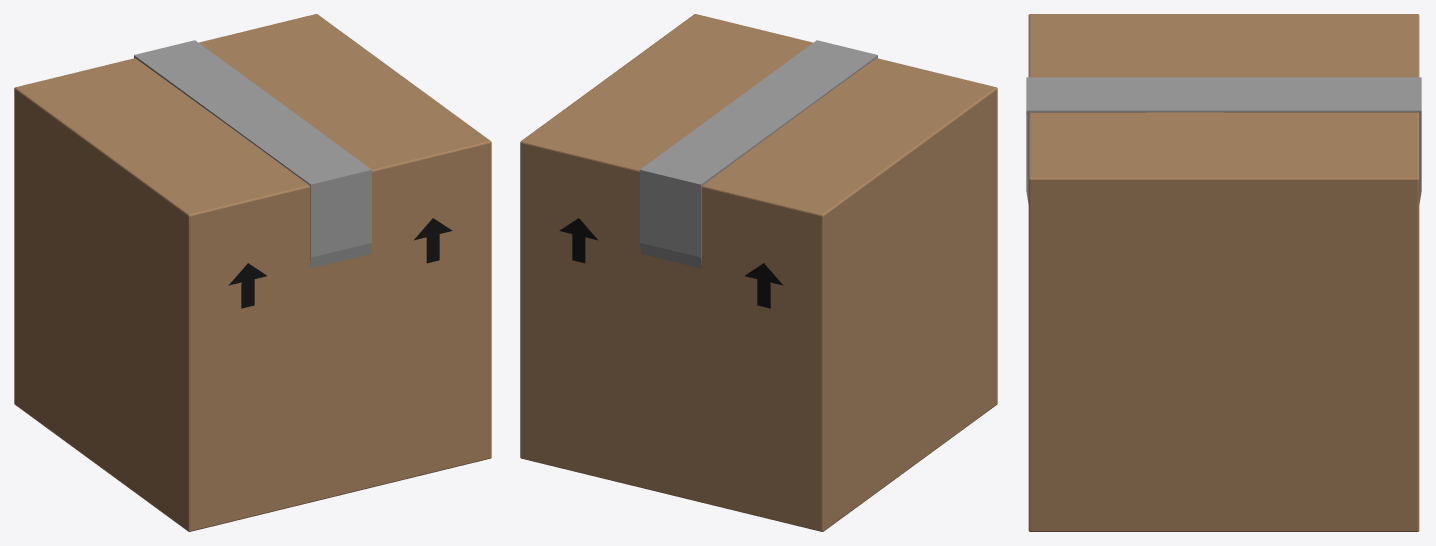
The model's file is CardboardBox.fbx.
3 renders of one model, left to right at view 1: azimuth 30°, elevation 25°; view 2: azimuth 150°, elevation 25°; view 3: azimuth 270°, elevation 25°, orthographic. The views are drawn at different scales.
Parts seen in each view (by area): view 1: CarbboardBox; view 2: CarbboardBox; view 3: CarbboardBox.
Part boxes in pixels (bbox=[...]): CarbboardBox: bbox=[14, 14, 491, 531]; CarbboardBox: bbox=[520, 14, 997, 531]; CarbboardBox: bbox=[1026, 14, 1421, 531].
Bounding box in the file's own units: 50 × 50.28 × 50.54.
